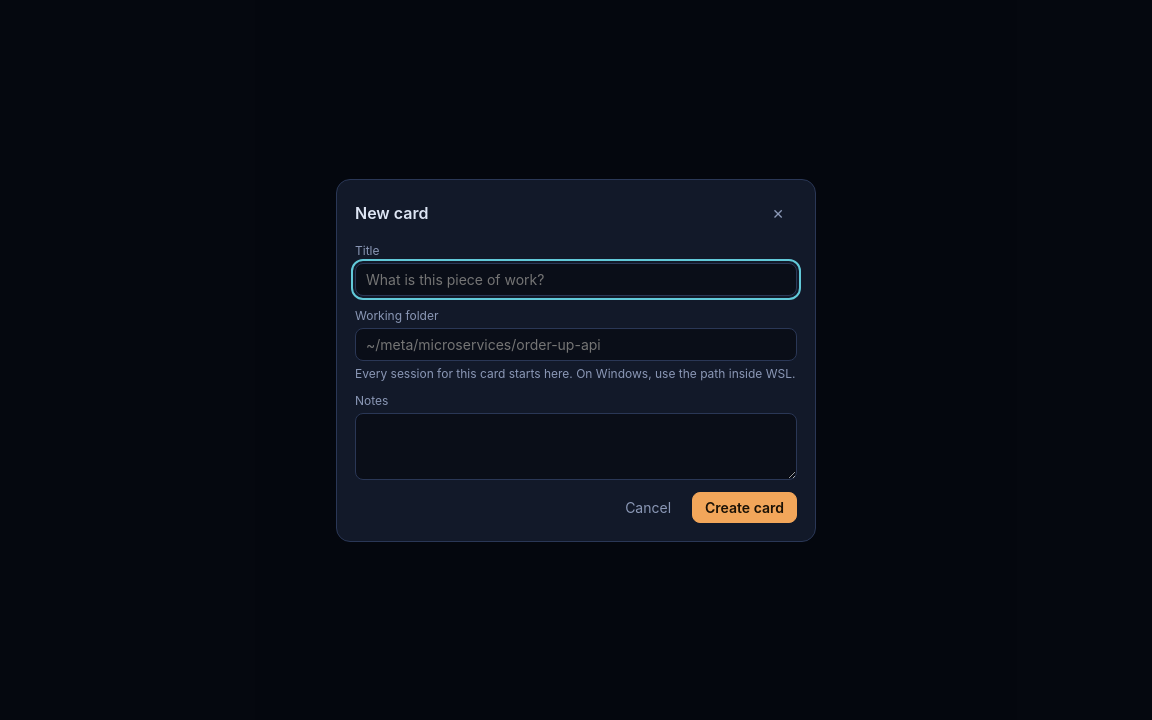
it: CardDialog › shows a save error and stays open
This screenshot has width=1152, height=720.
Click the button "Create card" at {"x": 744, "y": 507}, box x1=692 y1=492 x2=797 y2=522
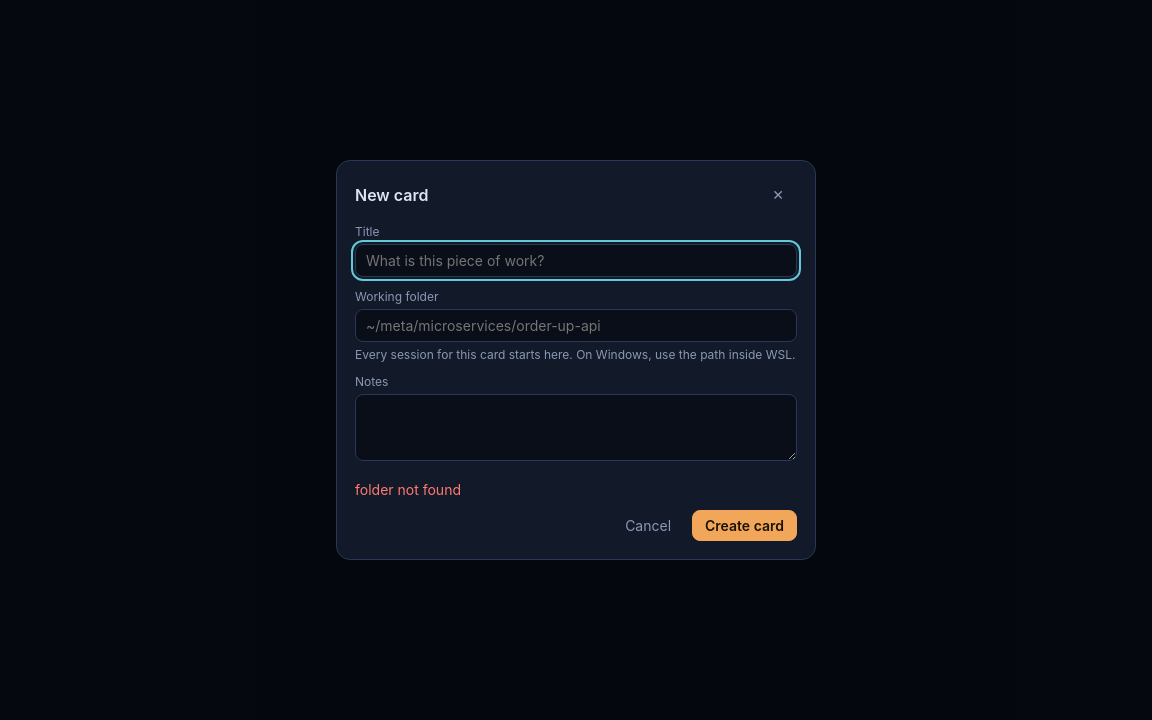
Now the text "folder not found" is shown, box x1=355 y1=481 x2=461 y2=498
